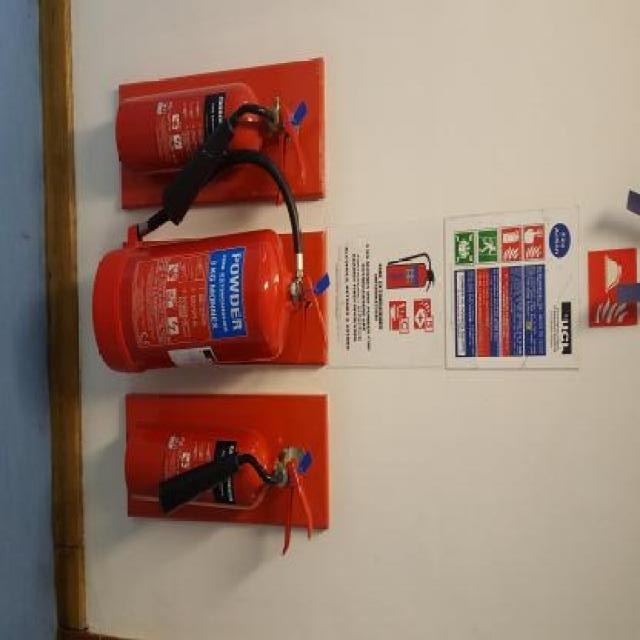fire extinguisher: (90, 217, 325, 380), (116, 68, 307, 195), (124, 417, 313, 526)
